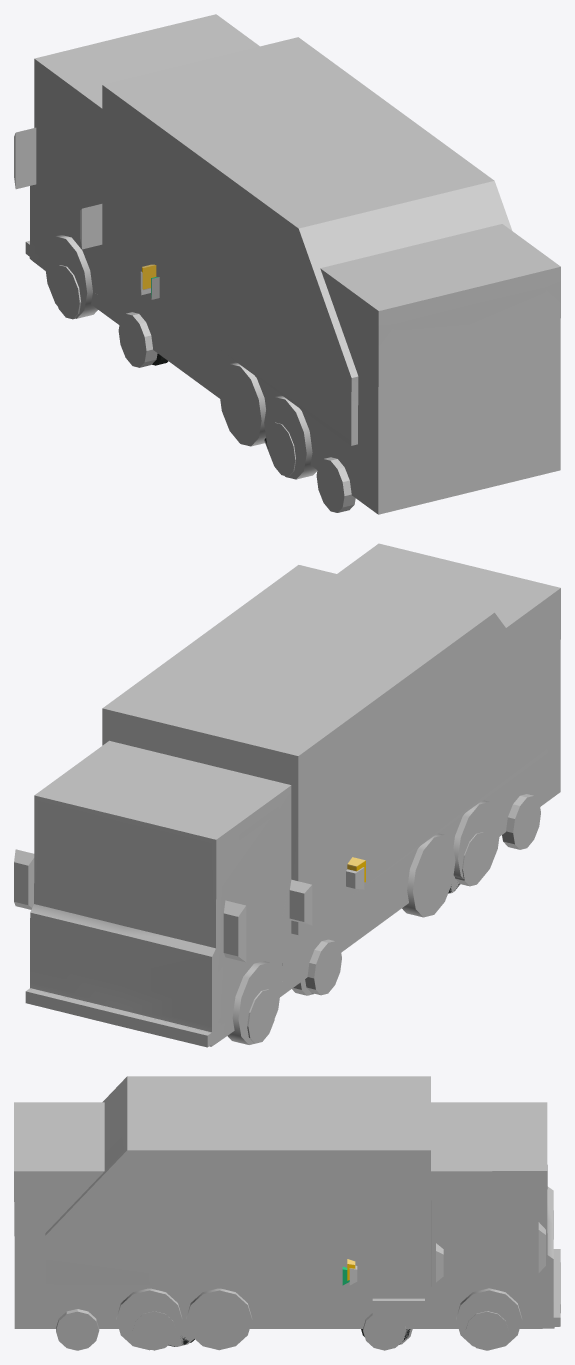
Rendered from Snow_Cars.fbx.
The picture shows the model from 3 angles, top to bottom: view 1: azimuth 30°, elevation 25°; view 2: azimuth 150°, elevation 25°; view 3: azimuth 270°, elevation 25°; orthographic projection. The views are drawn at different scales.
Parts seen in each view (by area): view 1: RubbishTruck_mesh, bus_white, van_blue; view 2: RubbishTruck_mesh, bus_white, van_blue, cop_mesh; view 3: RubbishTruck_mesh, bus_white, van_blue, cop_mesh.
Boxes of the visible parts, x1,y1,x2,y2 form: RubbishTruck_mesh: (14, 37, 512, 479); bus_white: (14, 14, 560, 514); van_blue: (80, 204, 312, 476); RubbishTruck_mesh: (14, 565, 547, 1047); bus_white: (14, 543, 560, 1046); van_blue: (280, 792, 494, 996); cop_mesh: (292, 867, 459, 995); RubbishTruck_mesh: (45, 1076, 560, 1350); bus_white: (14, 1102, 554, 1350); van_blue: (133, 1243, 443, 1350); cop_mesh: (169, 1265, 412, 1346).
Size of the model in its own units: 3.44 by 3.7 by 9.14.
